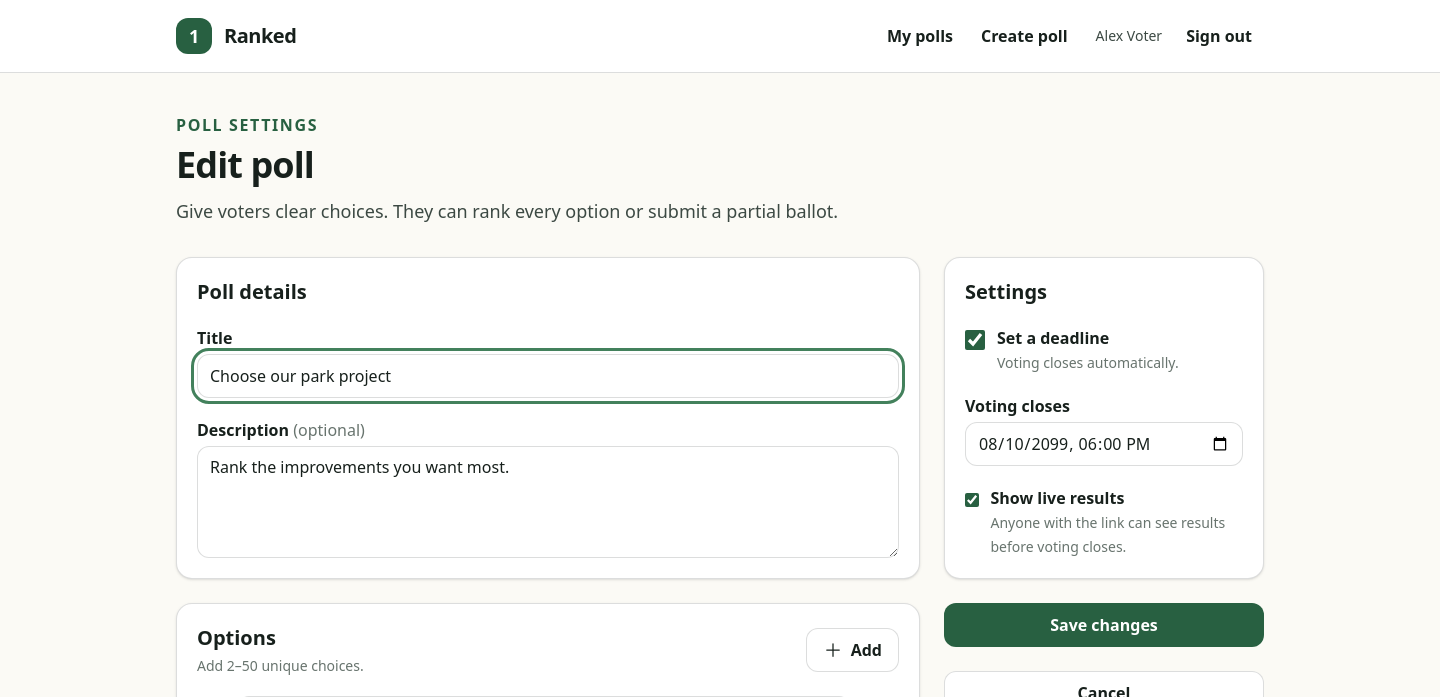
Test: poll creation › explicitly removes an existing deadline when editing
Click the checkbox labelled "Set a deadline Voting closes automatically.": (975,340) [965, 330, 985, 350]
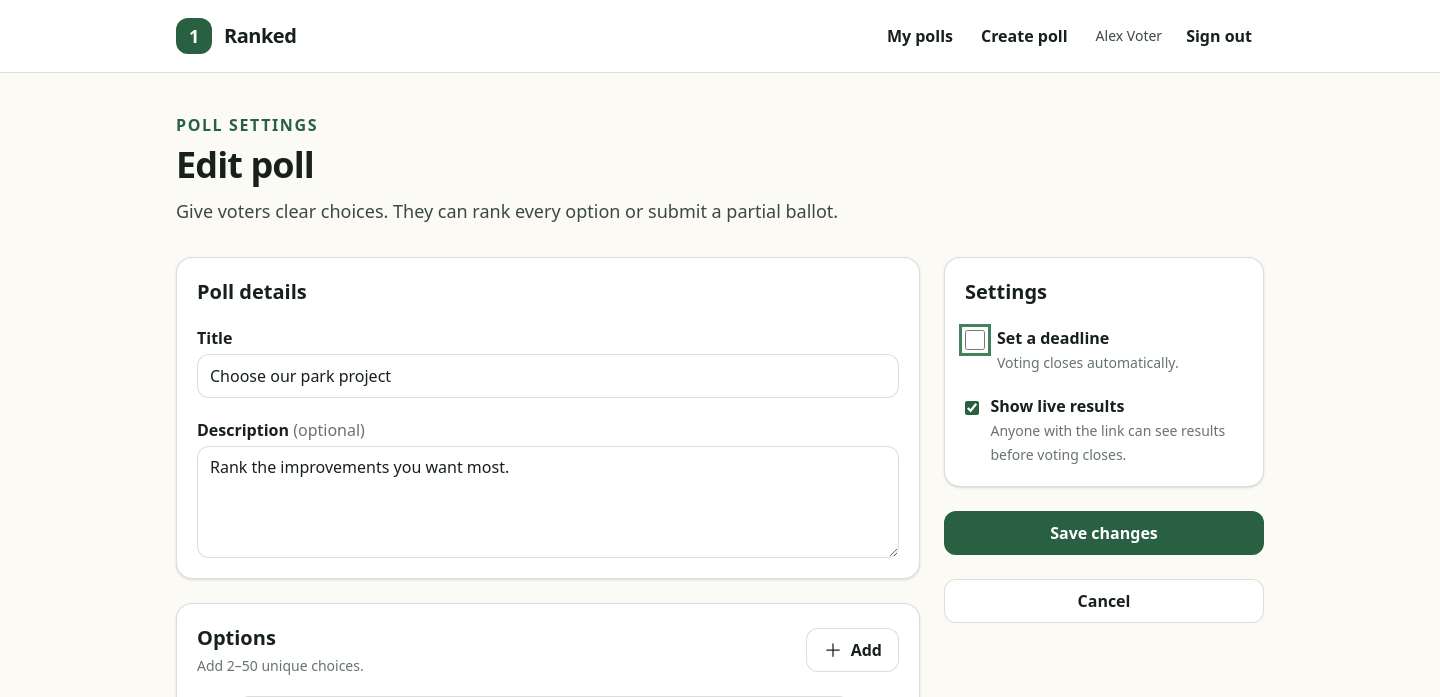
Click the button "Save changes": (1104,533) [944, 511, 1264, 555]
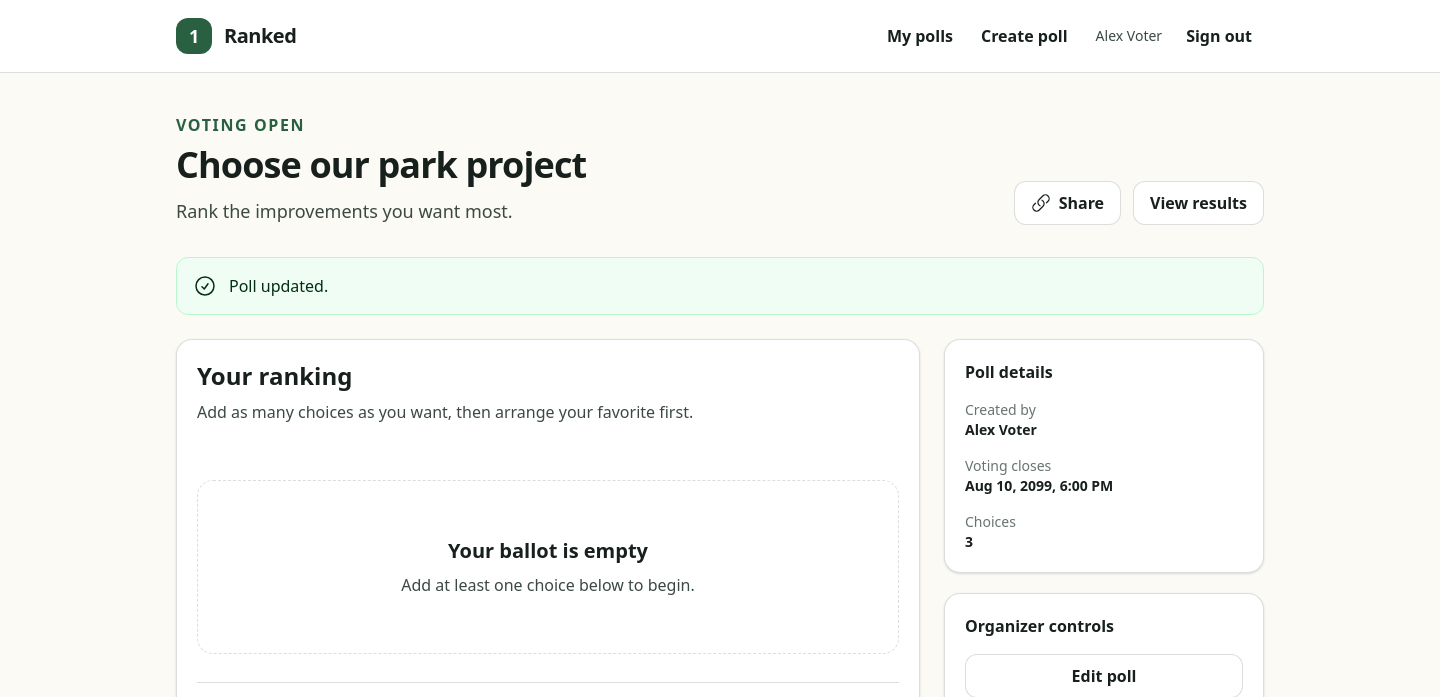
Expected: the heading "Choose our park project" is shown, [176, 145, 586, 185]
